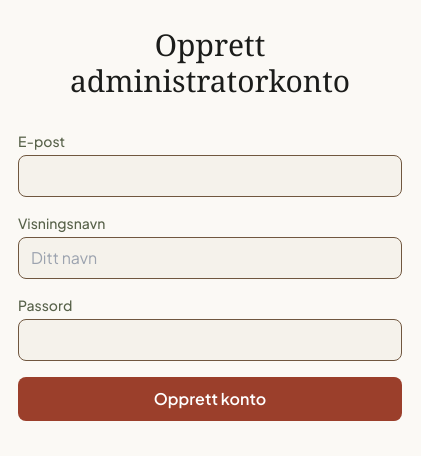
Scenario: AdminRegisterScreen › shows an error when bootstrap POST is forbidden
The image size is (421, 456).
Type "admin@test.com" into the field labelled "E-post" at (210, 176), box [18,155,402,197]
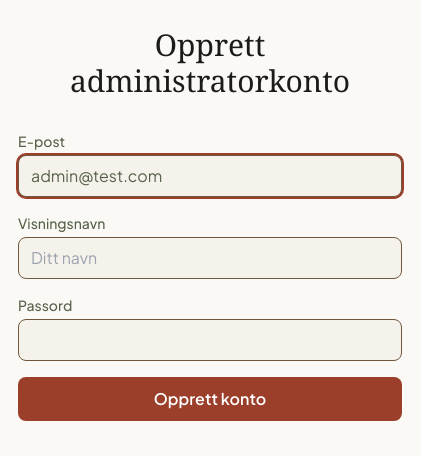
Type "Admin" into the field labelled "Visningsnavn" at (210, 258), box [18,237,402,279]
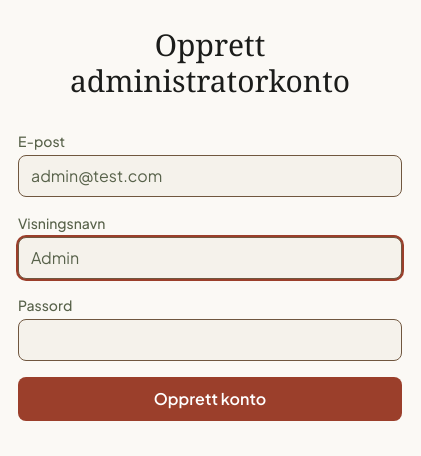
Type "password123" into the password field labelled "Passord" at (210, 340), box [18,319,402,361]
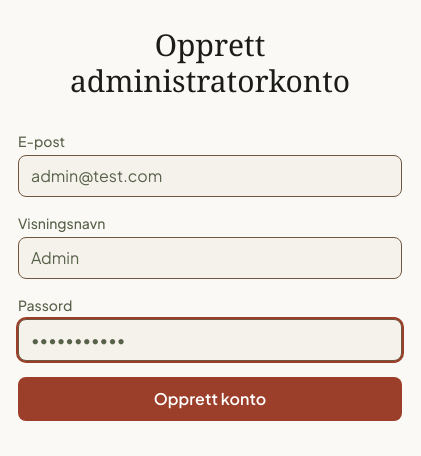
Click the button "Opprett konto" at (210, 399), box [18,377,402,421]
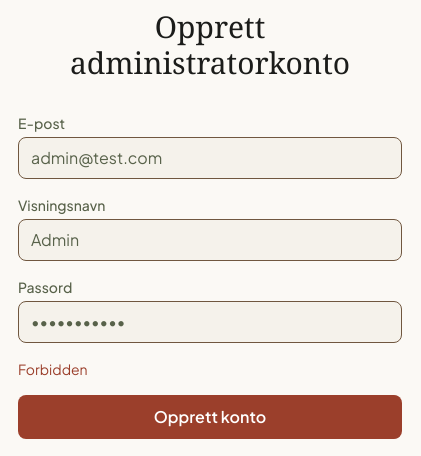
Expected: the message reads "Forbidden", [18,360,88,378]
